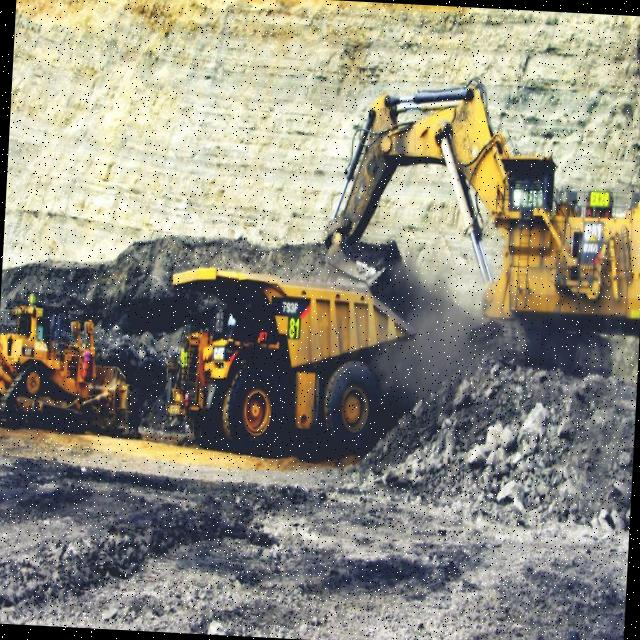Bulldozer: (0, 276, 145, 455)
Dump Truck: (157, 262, 418, 470)
Excavator: (317, 73, 640, 378)
